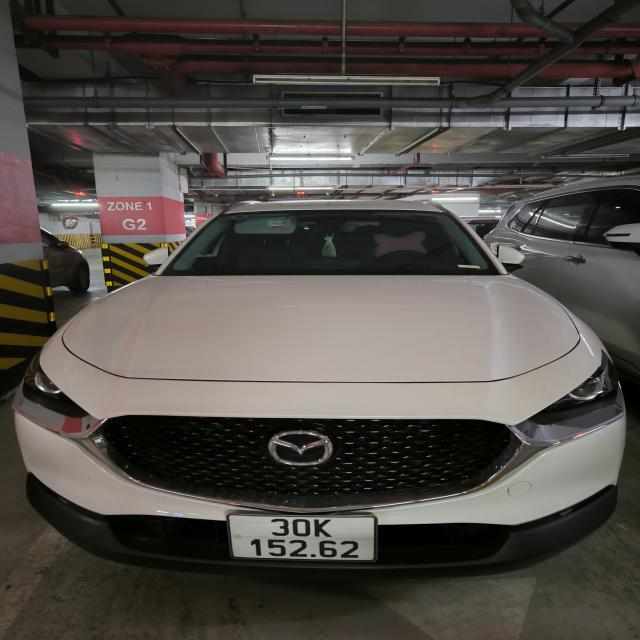license: (226, 512, 377, 562)
